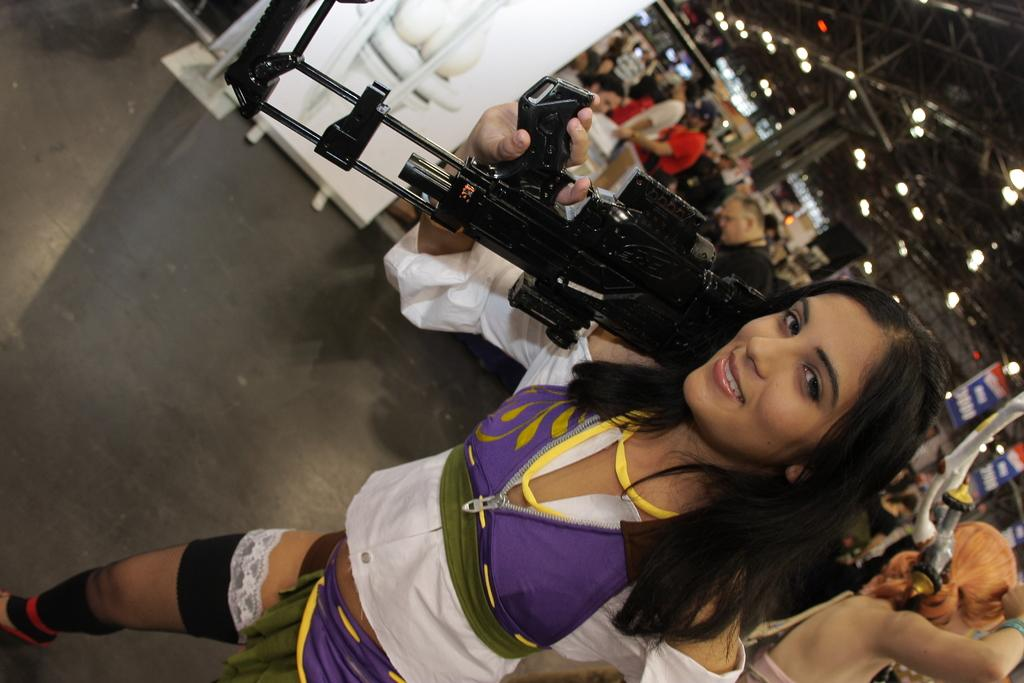non-violence: (1, 275, 931, 683), (613, 103, 718, 171), (585, 74, 624, 112)
weapon: (234, 58, 790, 393)
